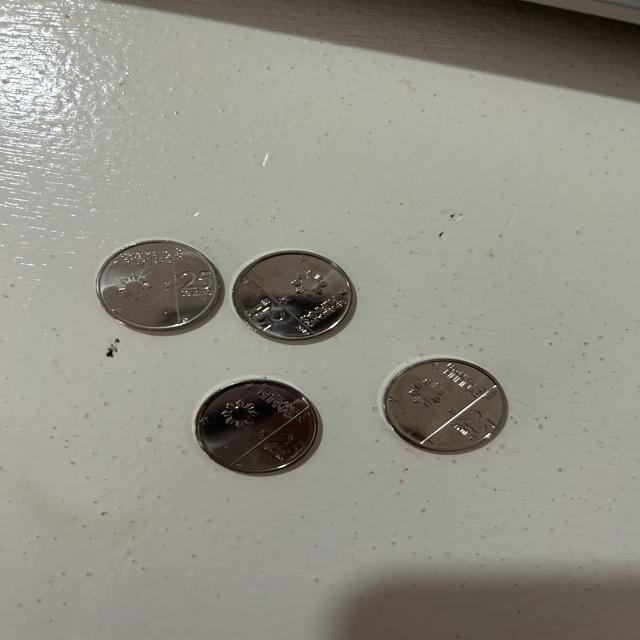25Cent_New_Front: (239, 293, 290, 332), (448, 405, 495, 442), (259, 429, 305, 461), (177, 262, 213, 301)
